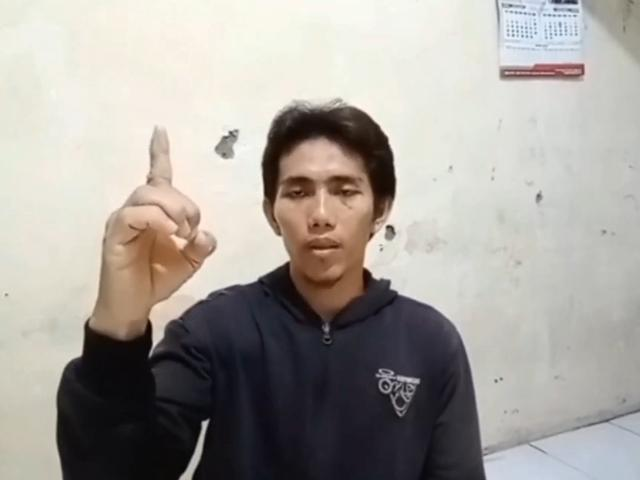D: (97, 125, 217, 323)
